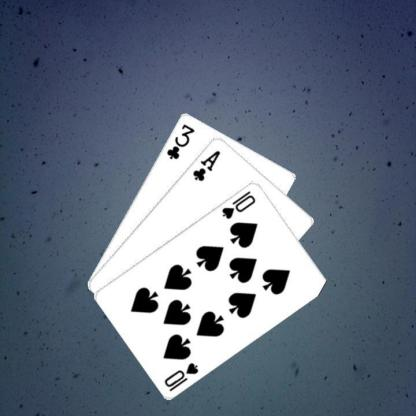10S: (161, 360, 200, 392), (219, 188, 257, 220)
3C: (163, 121, 196, 160)
AC: (190, 147, 222, 182)
